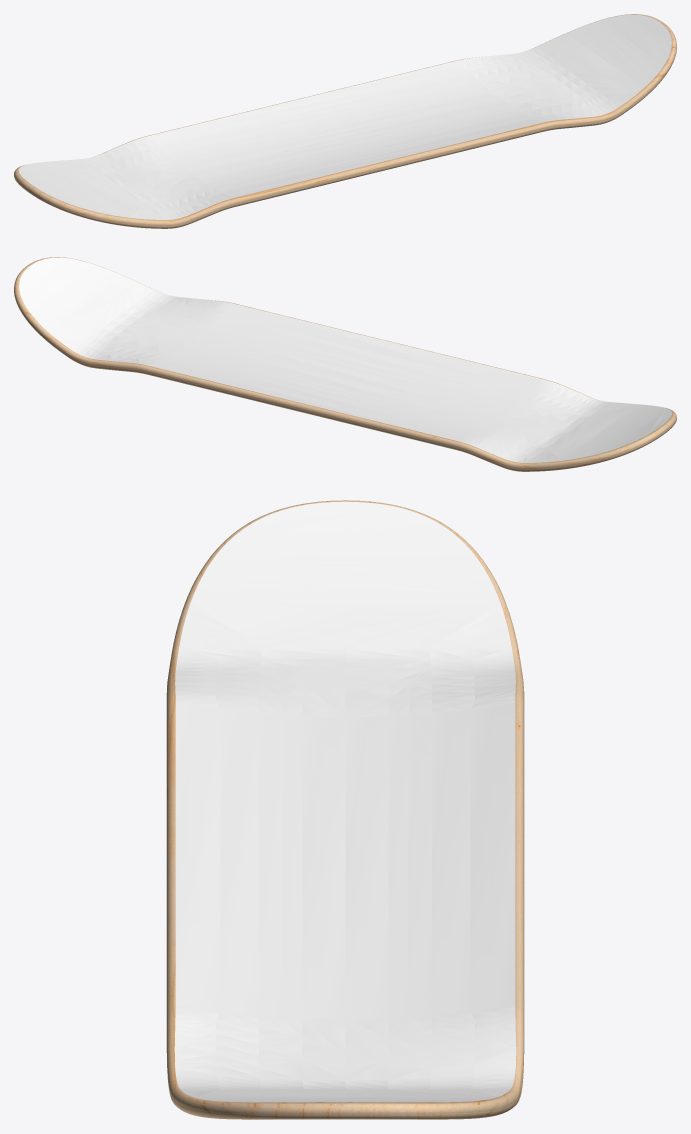
File: deck.glb
3 renders of one model, top to bottom at view 1: azimuth 30°, elevation 25°; view 2: azimuth 150°, elevation 25°; view 3: azimuth 270°, elevation 25°, orthographic. The views are drawn at different scales.
Visible parts, largest first — view 1: DeckTop, Deck; view 2: DeckTop, Deck; view 3: DeckTop, Deck.
Boxes of the visible parts, left/top/right/bottom form: DeckTop: left=19, top=14, right=671, bottom=219; Deck: left=14, top=14, right=676, bottom=228; DeckTop: left=19, top=257, right=671, bottom=462; Deck: left=14, top=257, right=676, bottom=471; DeckTop: left=174, top=501, right=516, bottom=1102; Deck: left=166, top=500, right=524, bottom=1119.
Size of the model in its own units: 0.8128 by 0.0557 by 0.1969.
Materials: 3 (1 with a texture image).
